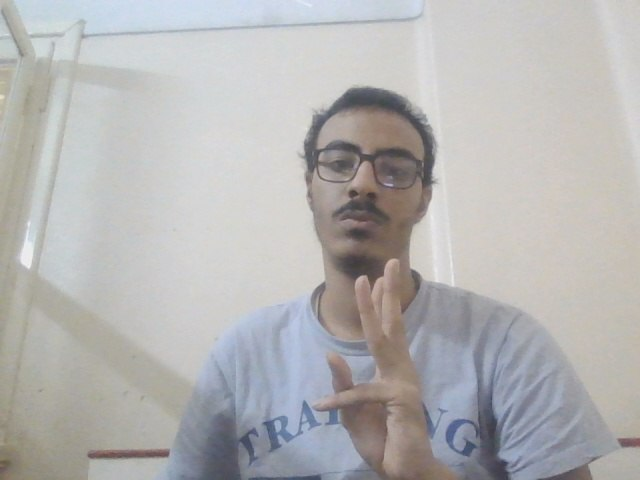Water: (304, 258, 454, 476)
